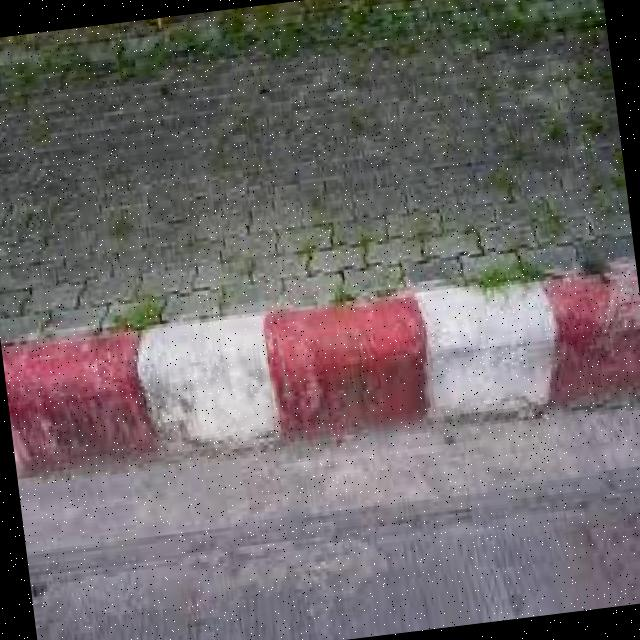curb: (2, 270, 640, 484)
